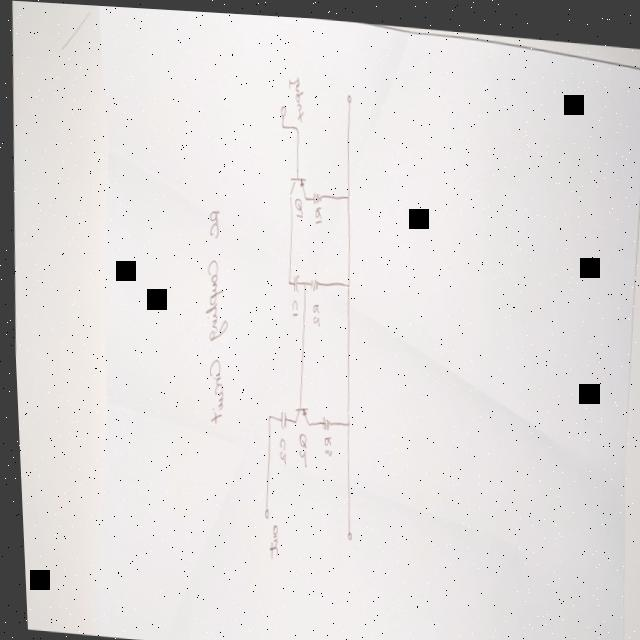capacitor: (274, 405, 282, 427), (288, 269, 296, 289)
junction: (291, 121, 297, 130), (341, 277, 346, 286), (340, 416, 345, 424), (343, 189, 347, 196), (262, 410, 266, 417), (299, 276, 302, 282), (284, 276, 287, 282), (279, 120, 282, 126)
resistor: (315, 411, 328, 427), (305, 272, 317, 287), (309, 186, 320, 202)
terminal: (278, 100, 285, 115), (340, 526, 346, 539), (344, 88, 349, 100), (258, 503, 262, 515)
text: (192, 204, 232, 424), (284, 70, 304, 120), (261, 519, 273, 556), (291, 427, 302, 463), (272, 433, 282, 461), (307, 298, 317, 323), (291, 193, 301, 214), (310, 200, 320, 221), (318, 430, 327, 452), (286, 294, 294, 313)
transistor: (285, 171, 305, 199), (288, 401, 305, 425)
